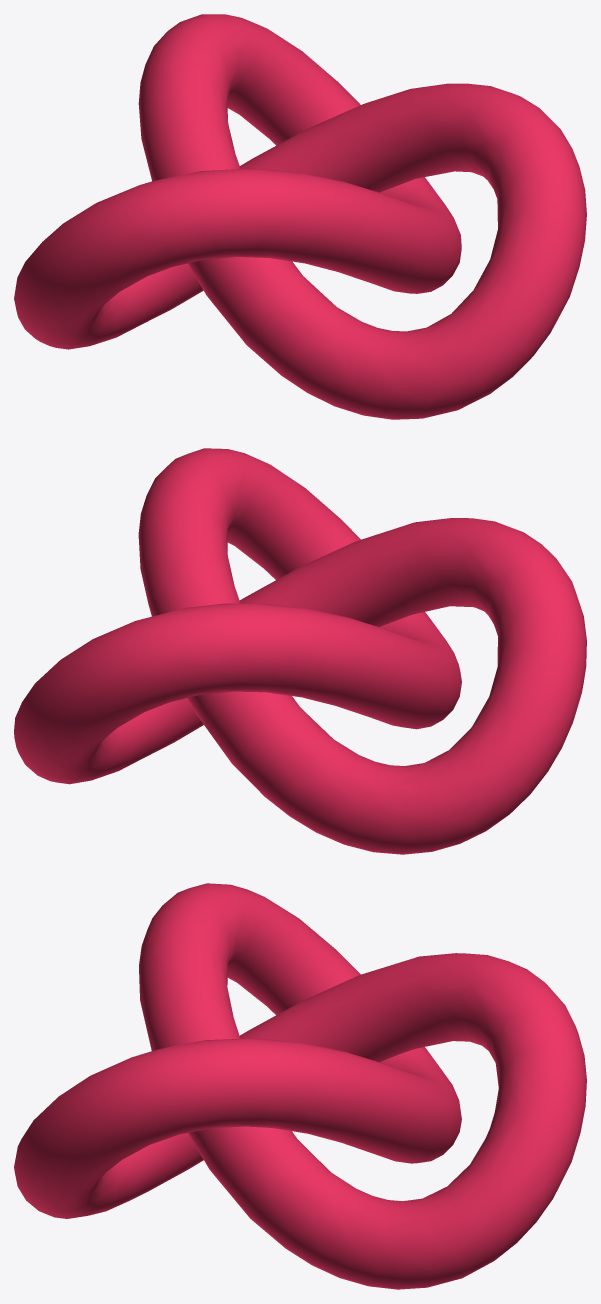
File: torus-knotDecimated.glb
3 renders of one model, top to bottom at view 1: azimuth 30°, elevation 25°; view 2: azimuth 150°, elevation 25°; view 3: azimuth 270°, elevation 25°, orthographic.
Parts seen in each view (by area): view 1: TorusKnot.001; view 2: TorusKnot.001; view 3: TorusKnot.001.
Part boxes in pixels (left/top/right/bottom): TorusKnot.001: left=14, top=14, right=586, bottom=419; TorusKnot.001: left=14, top=448, right=586, bottom=854; TorusKnot.001: left=14, top=883, right=586, bottom=1289.
Bounding box in the file's own units: 6.06 × 3 × 6.47.
